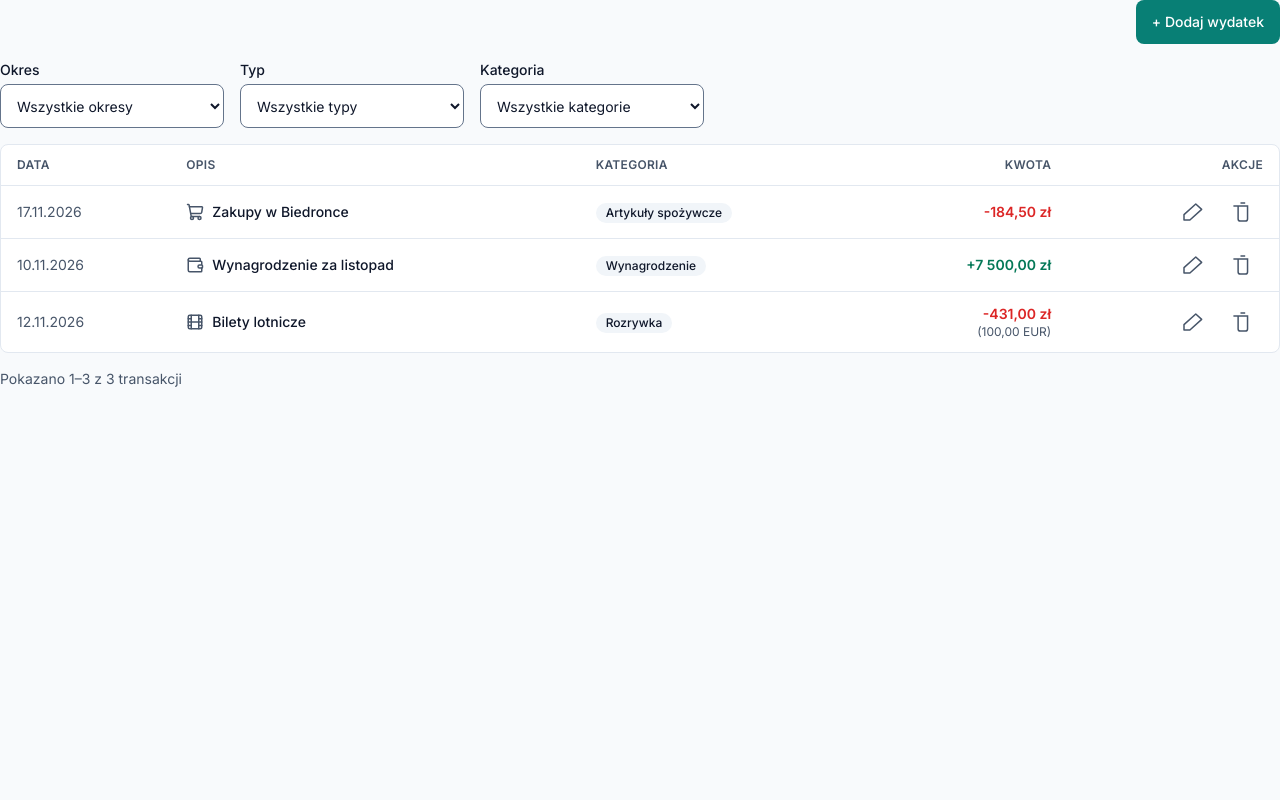
it: TransactionsView › editing a transaction › puts the changed transaction, closes the dialog, reloads the list and then shows the toast
Click the button named "Edytuj transakcję: Zakupy w Biedronce, 17.11.2026" at (1193, 212), box [1171,190,1215,234]
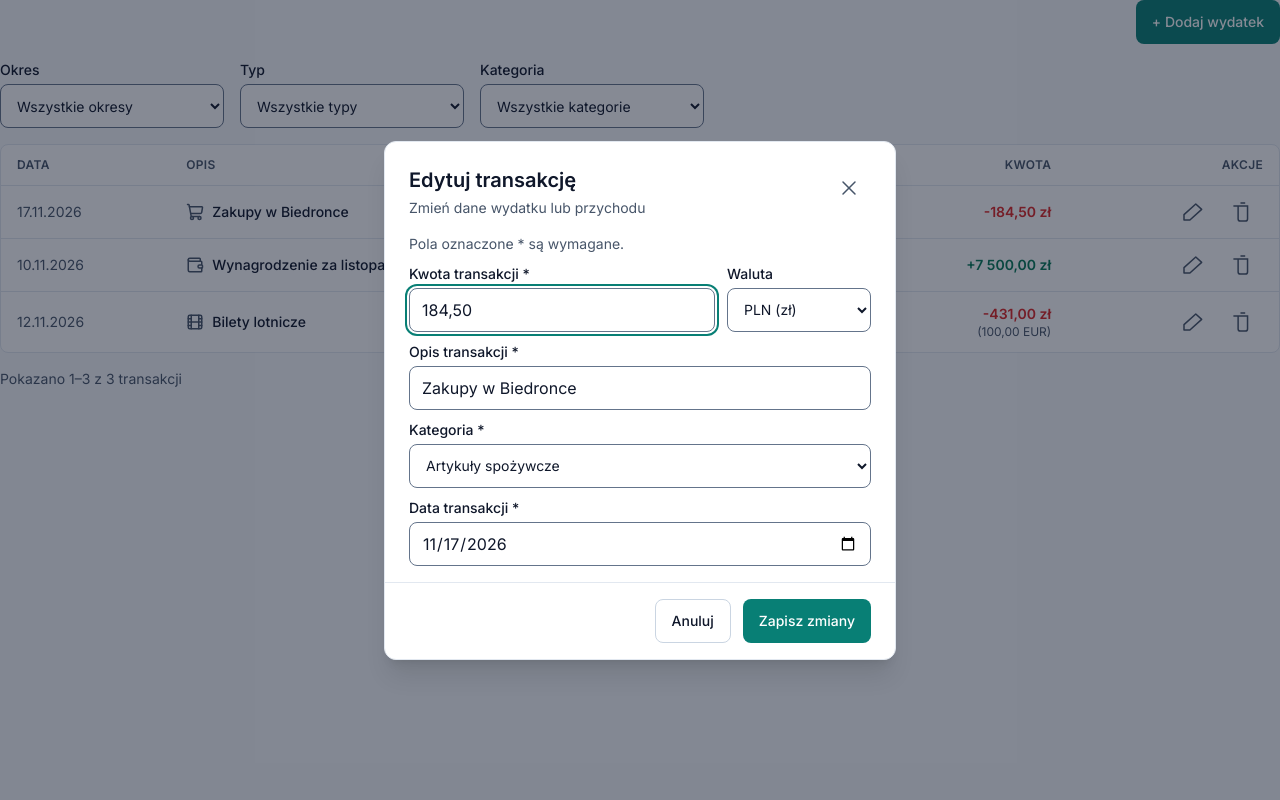
Replace the text in the field labelled "Kwota transakcji *" with "200,00" at (562, 310), box [409,288,715,332]
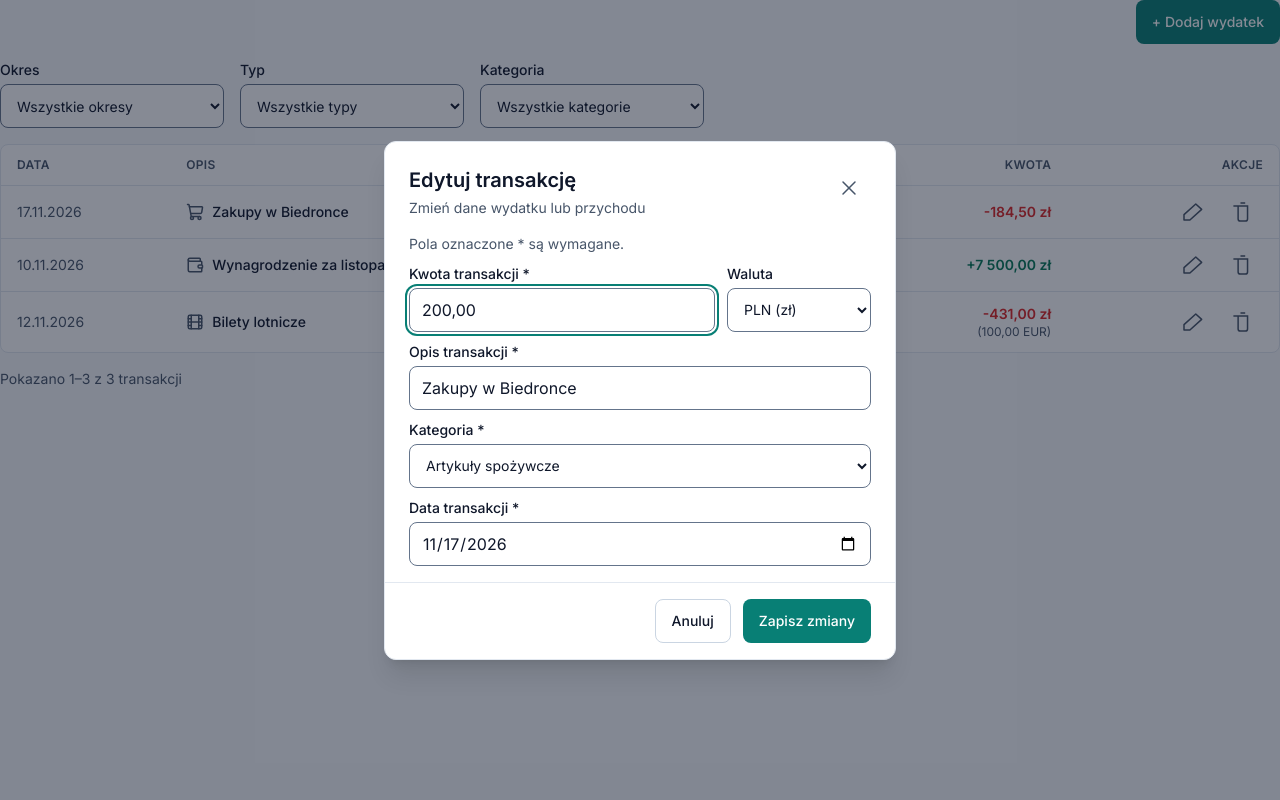
Click the button "Zapisz zmiany" at (807, 620), box [743,598,871,642]
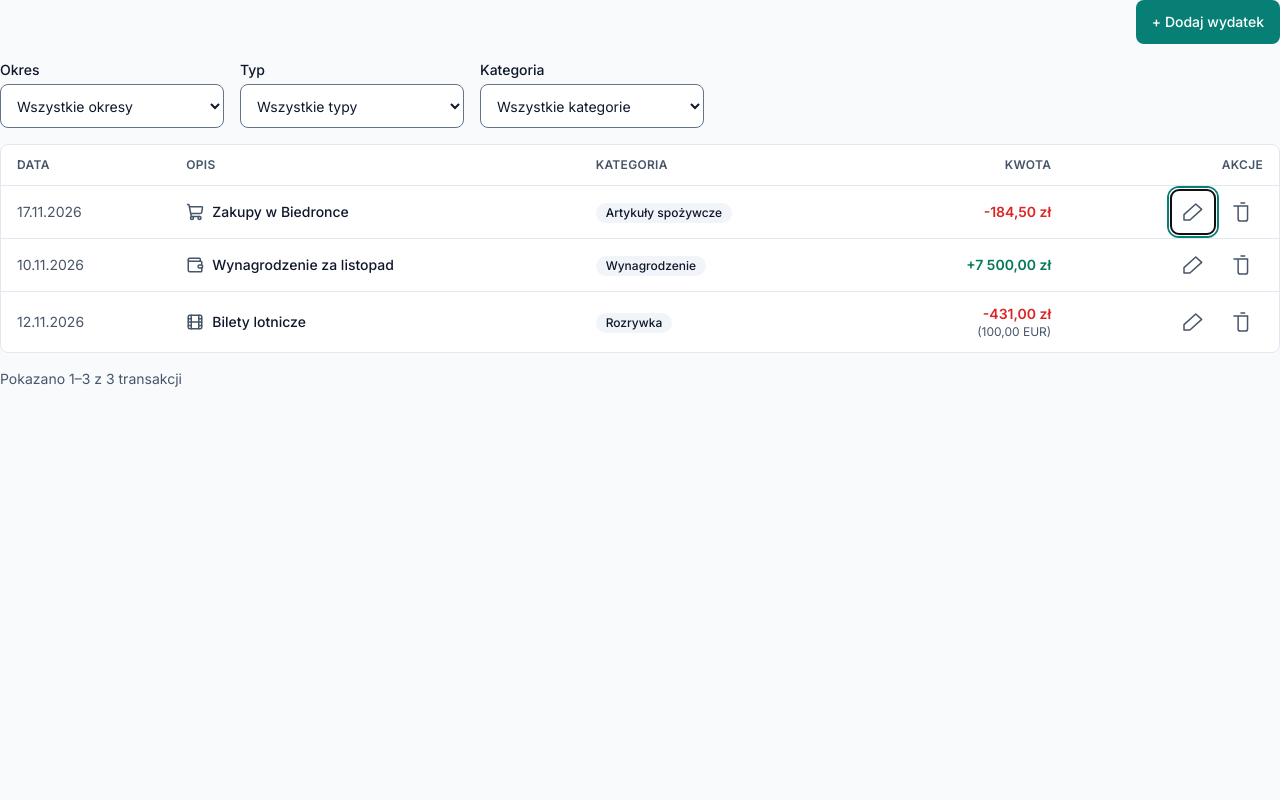
expect the dialog is gone: met
